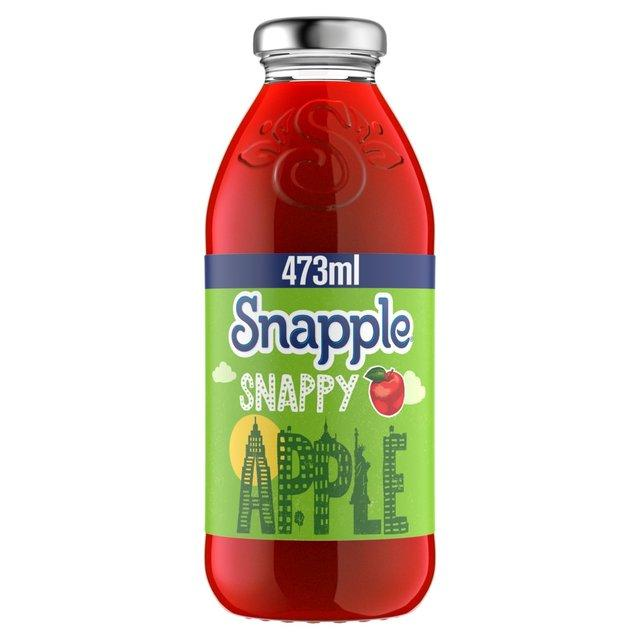orange: (182, 6, 454, 608)
